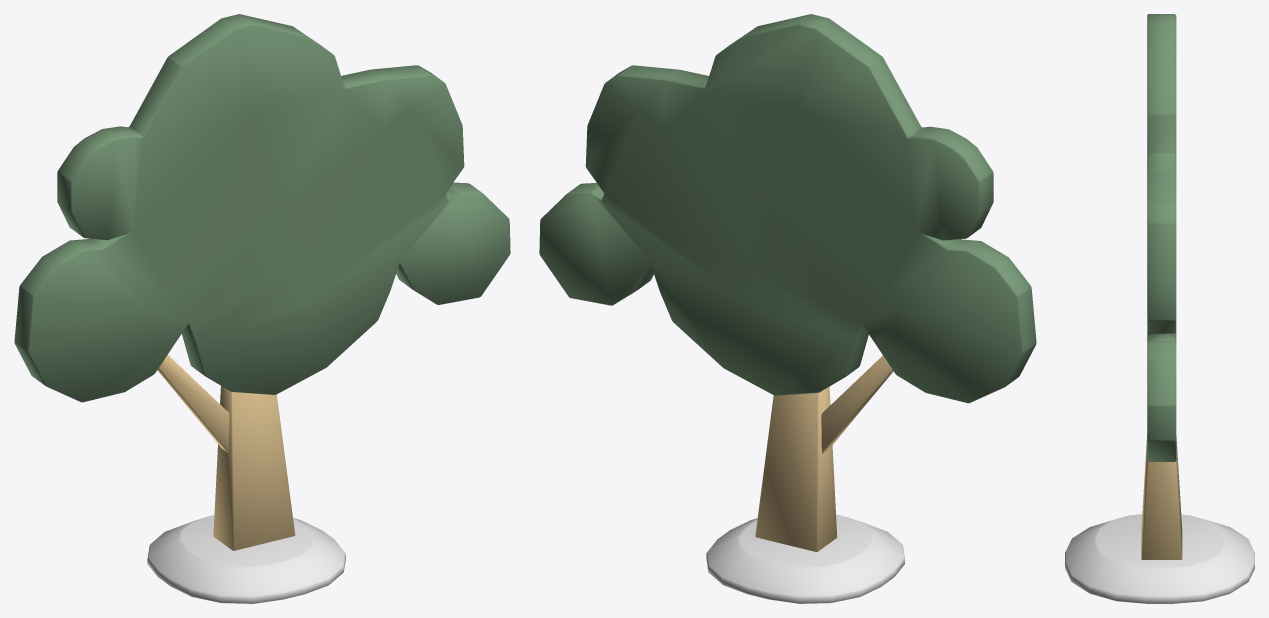
File: deco_tree2.fbx
3 views of the same model, side by side, from view 1: azimuth 30°, elevation 25°; view 2: azimuth 150°, elevation 25°; view 3: azimuth 270°, elevation 25° (orthographic).
Visible parts, largest first — view 1: deco_tree2; view 2: deco_tree2; view 3: deco_tree2.
Boxes of the visible parts, left/top/right/bottom form: deco_tree2: left=14, top=14, right=510, bottom=603; deco_tree2: left=539, top=14, right=1036, bottom=603; deco_tree2: left=1065, top=14, right=1254, bottom=603.
Size of the model in its own units: 229 by 78.16 by 246.
